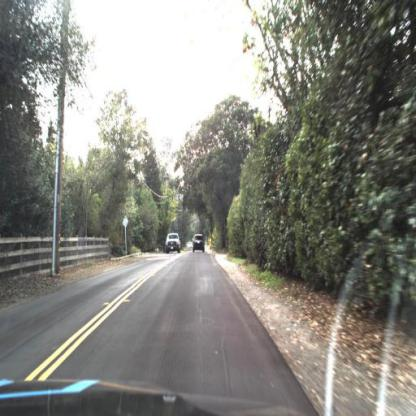car: (162, 229, 181, 257), (192, 232, 206, 255)
